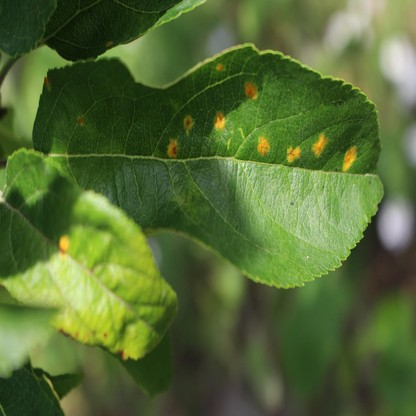rust: (342, 145, 357, 173), (312, 133, 327, 156), (244, 82, 258, 100), (58, 234, 68, 258), (286, 146, 300, 162), (256, 137, 269, 153), (214, 111, 225, 128), (185, 115, 194, 134), (167, 139, 177, 156), (42, 75, 51, 91), (76, 113, 84, 125), (105, 38, 112, 48), (215, 63, 221, 71)
scab: (166, 162, 208, 225)
